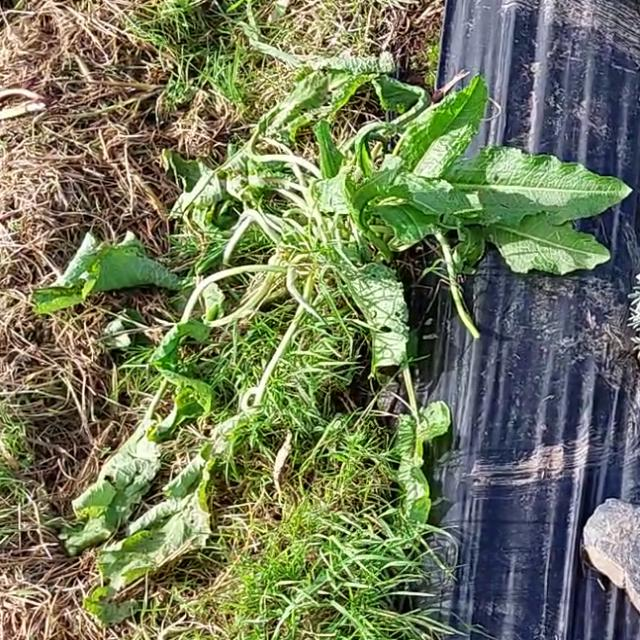organic waste: (30, 72, 633, 629)
